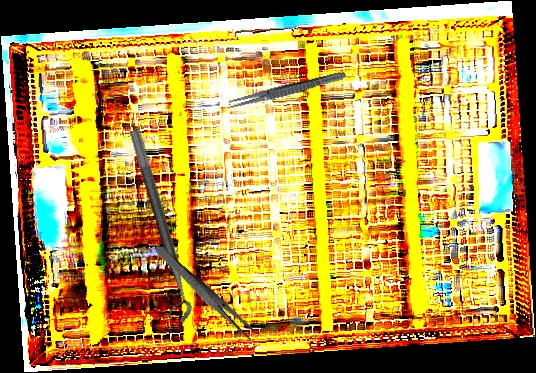Dressing Forceps: (150, 242, 260, 344), (225, 68, 347, 113)
Fixation Ring: (112, 128, 196, 327)
